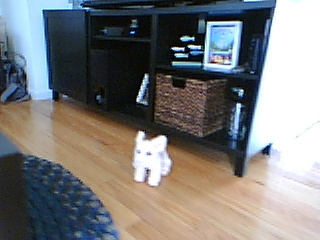piggy: (130, 129, 173, 187)
